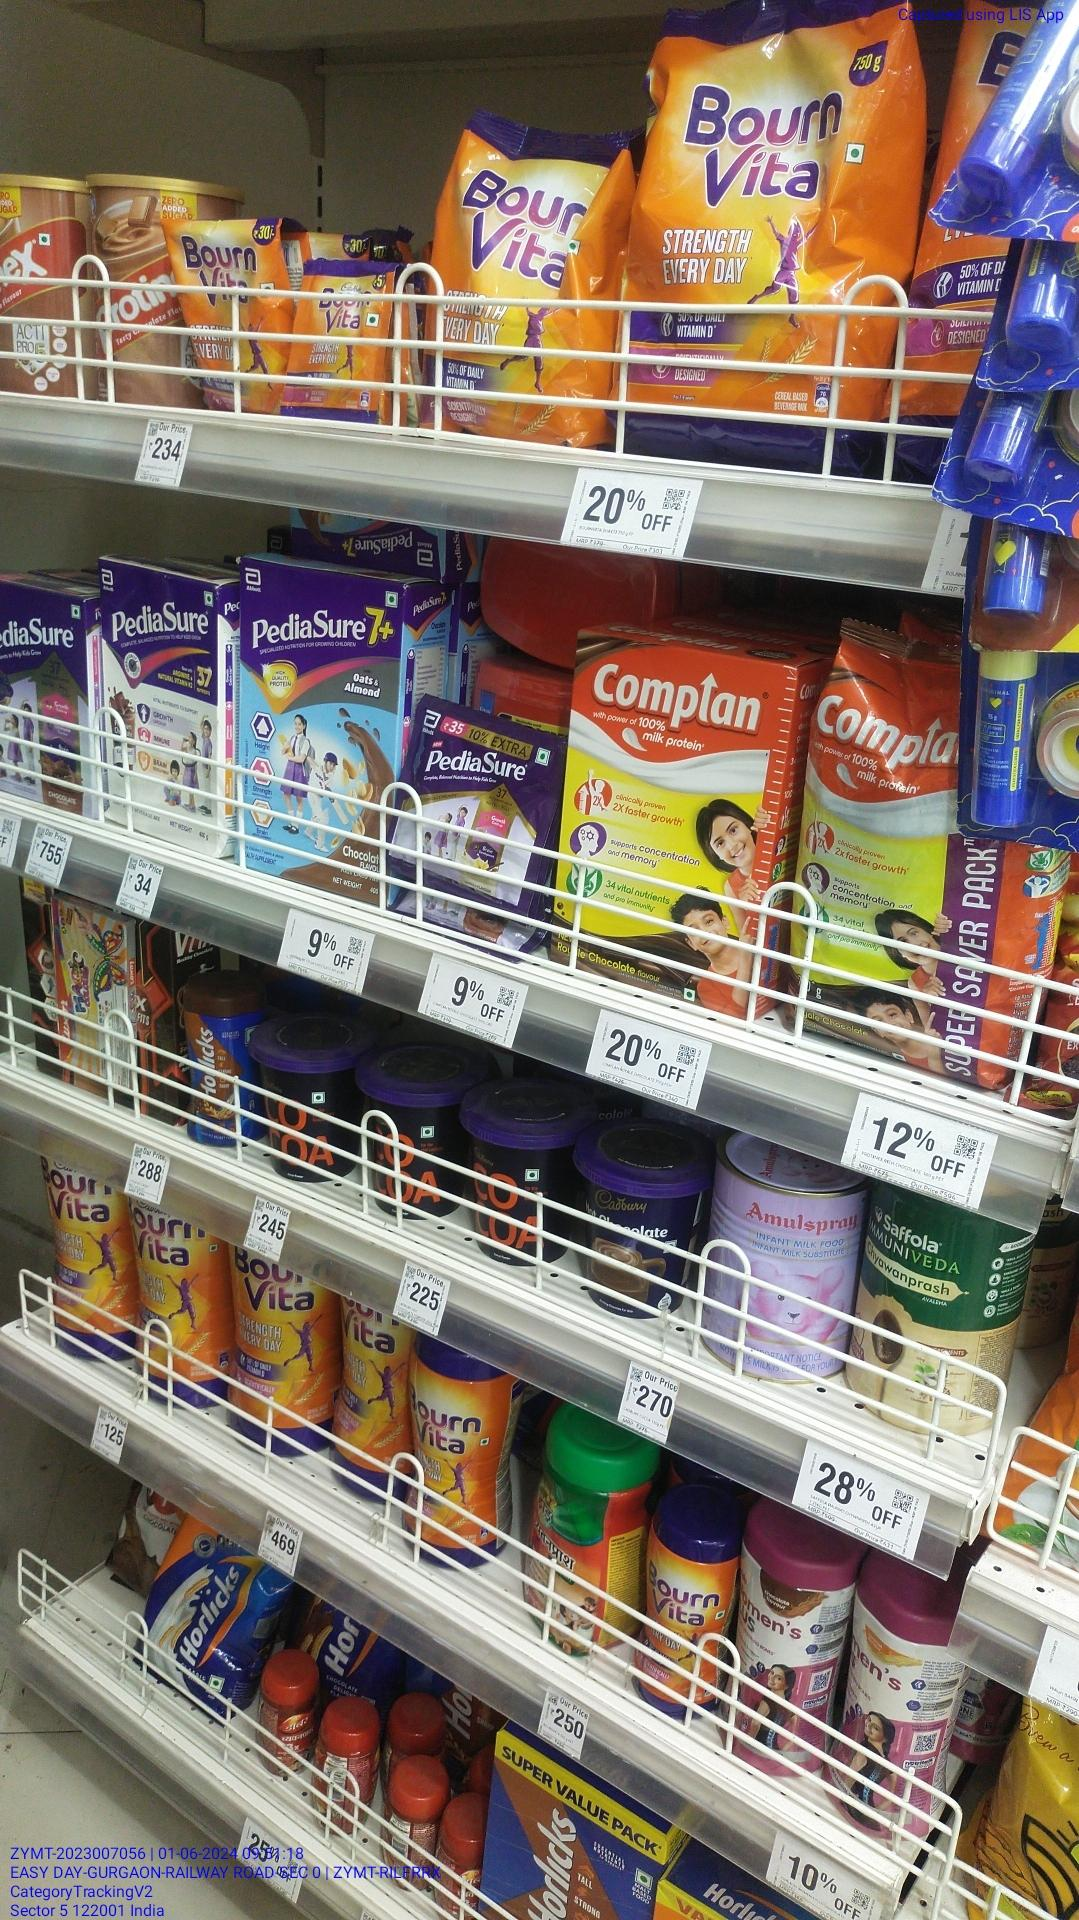BOURN_VITA_200_G_JAR: (644, 1493, 732, 1727)
BOURN_VITA_75_G_POUCH: (189, 222, 290, 409)
PEDIASURE_7_PLUS_CHOCOLATE_400_G_PACK: (232, 563, 400, 902)
